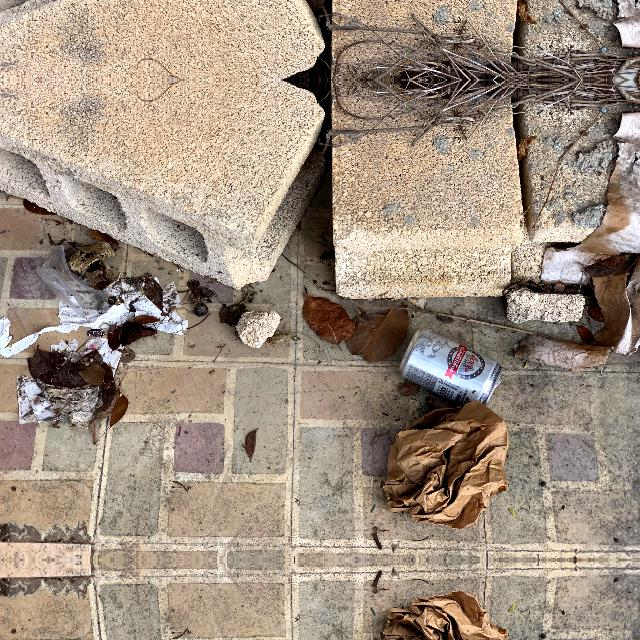Metal: (395, 324, 507, 406)
Paper: (381, 395, 515, 533), (381, 587, 515, 640)
Plastic: (31, 240, 192, 338), (0, 316, 124, 433)
